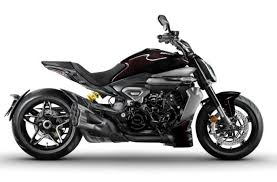motorcycle: (7, 14, 266, 163)
